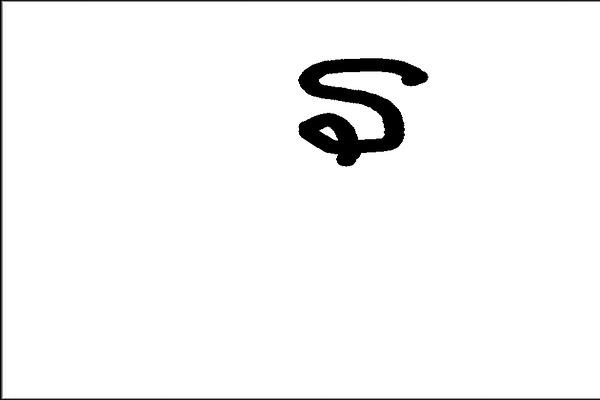S: (291, 51, 430, 168)
